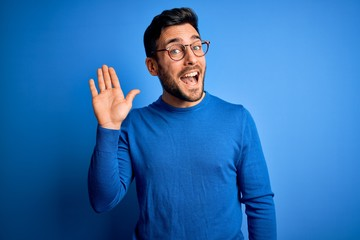Hello: (86, 62, 144, 133)
